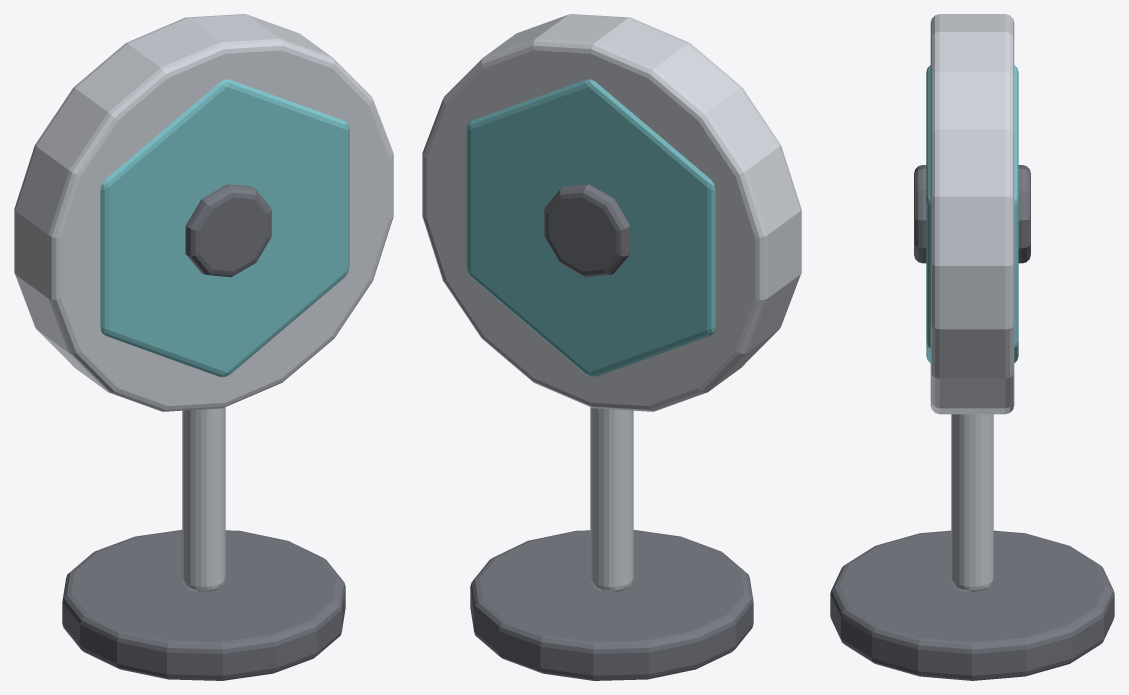
Rendered from DeskFan.fbx.
3 views of the same model, side by side, from view 1: azimuth 30°, elevation 25°; view 2: azimuth 150°, elevation 25°; view 3: azimuth 270°, elevation 25° (orthographic).
Visible parts, largest first — view 1: DeskFan; view 2: DeskFan; view 3: DeskFan.
Boxes of the visible parts, bbox=[...] form: DeskFan: bbox=[14, 14, 393, 680]; DeskFan: bbox=[422, 14, 801, 680]; DeskFan: bbox=[830, 14, 1114, 680].
Bounding box in the file's own units: 0.2364 × 0.39 × 0.17.
